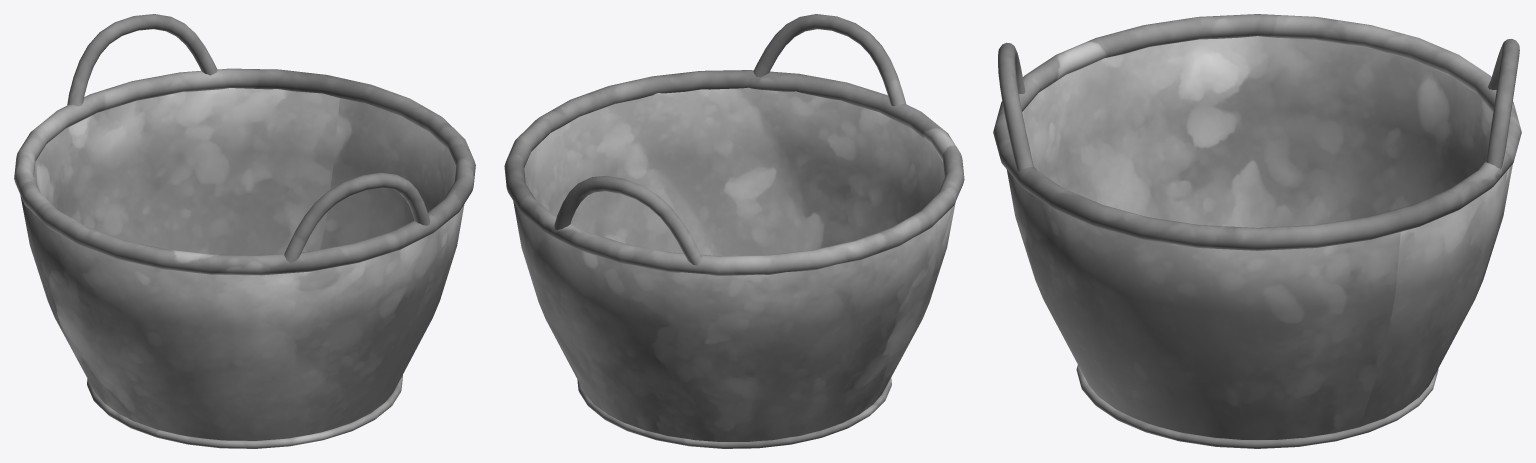
File: SM_WickerBasket_04a.fbx
3 renders of one model, left to right at view 1: azimuth 30°, elevation 25°; view 2: azimuth 150°, elevation 25°; view 3: azimuth 270°, elevation 25°, orthographic. The views are drawn at different scales.
Parts seen in each view (by area): view 1: SM_WickerBasket_04a_LOD0; view 2: SM_WickerBasket_04a_LOD0; view 3: SM_WickerBasket_04a_LOD0.
Boxes of the visible parts, <box> form: SM_WickerBasket_04a_LOD0: <box>14,14,475,448</box>; SM_WickerBasket_04a_LOD0: <box>504,14,964,448</box>; SM_WickerBasket_04a_LOD0: <box>993,14,1521,448</box>.
Size of the model in its own units: 66.2 by 66.2 by 45.13.
